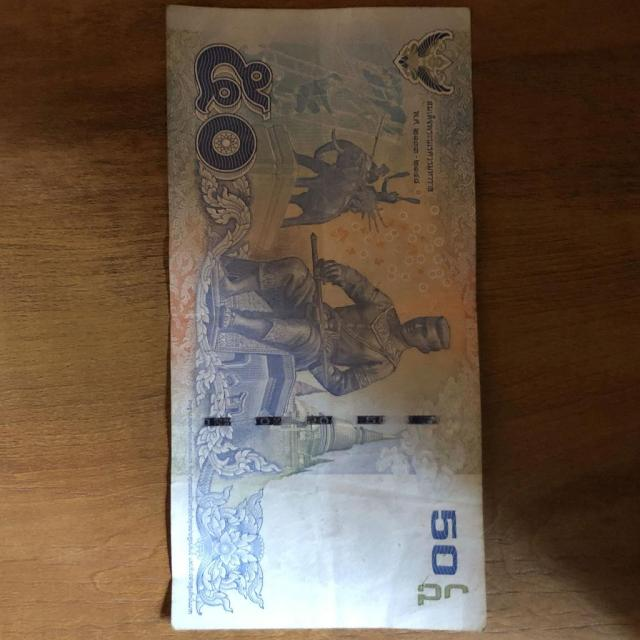THAI50: (167, 6, 486, 631)
